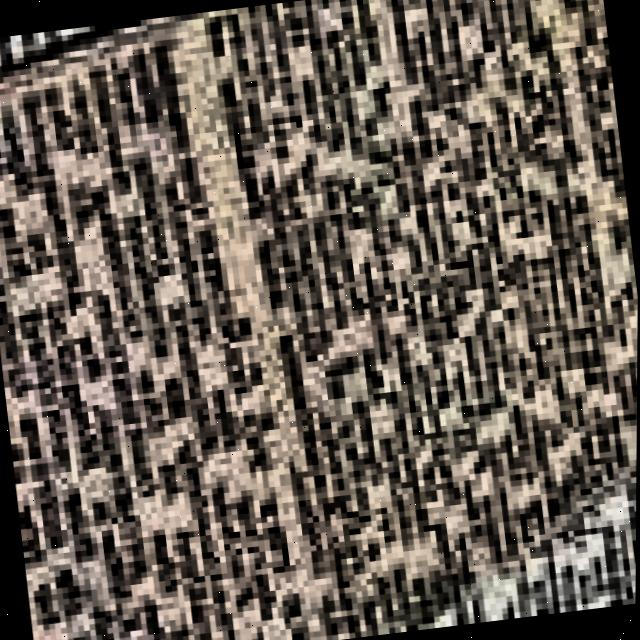paper: (0, 0, 638, 640)
